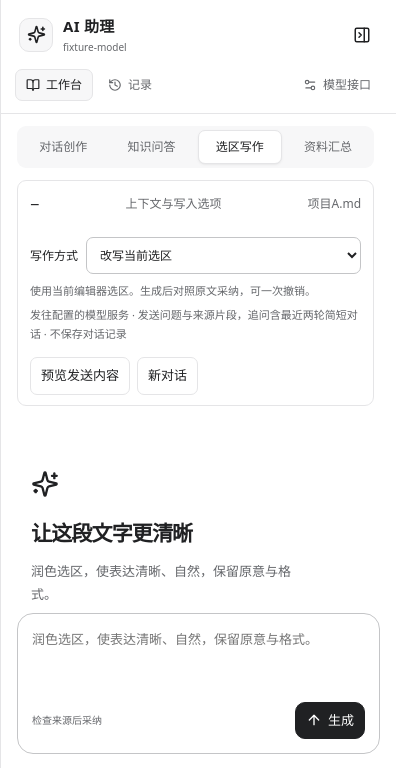
Test case: AI workspace › makes rewrite require an actual writable editor selection
Check: the text "fixture-model" is shown, box top-left (63, 39), bottom-right (127, 55)
Click the button "生成".
click(330, 720)  # box top-left (295, 702), bottom-right (365, 739)
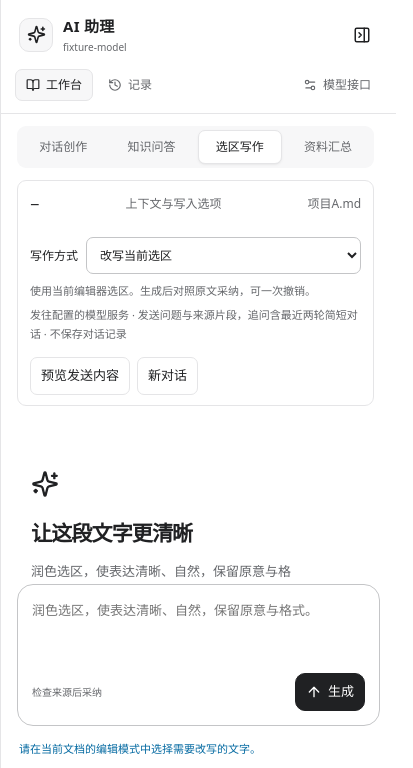
Check: the text "请在当前文档的编辑模式中选择需要改写的文字。" is shown, box top-left (1, 740), bottom-right (396, 767)
